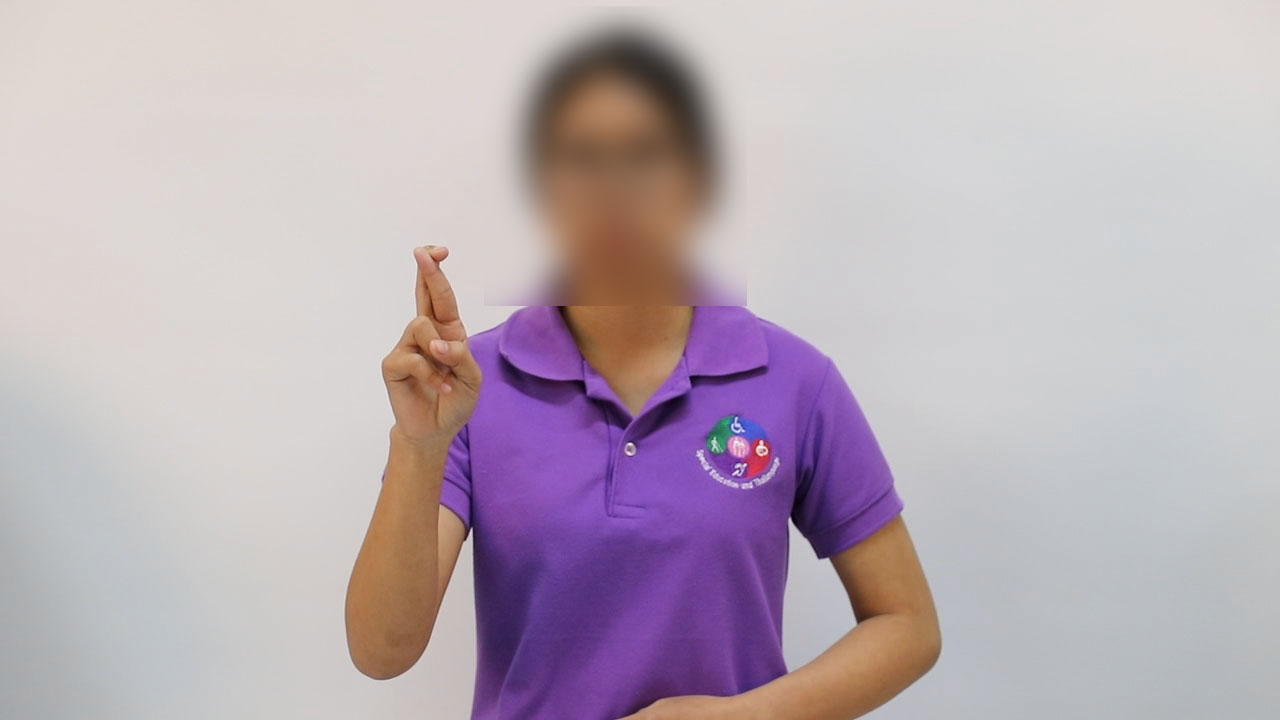rao: (360, 238, 492, 462)
